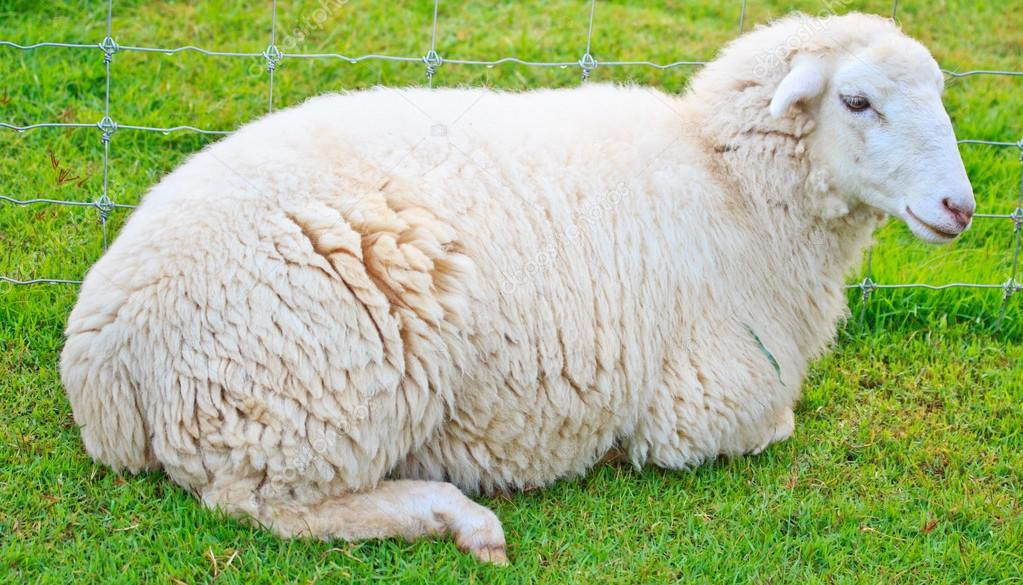koyun: (56, 15, 975, 563)
